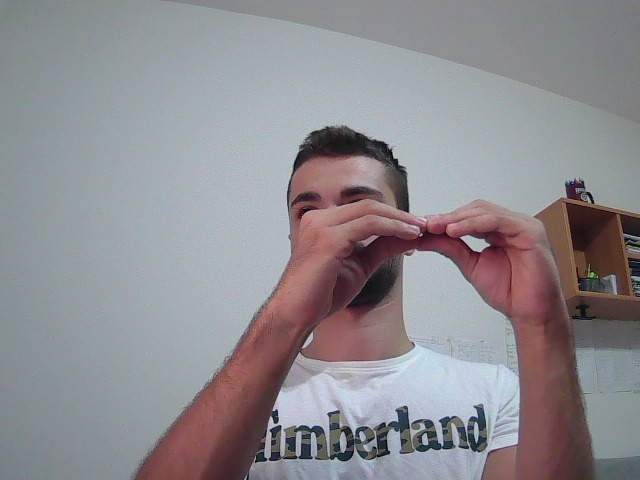b: (250, 176, 606, 431)
